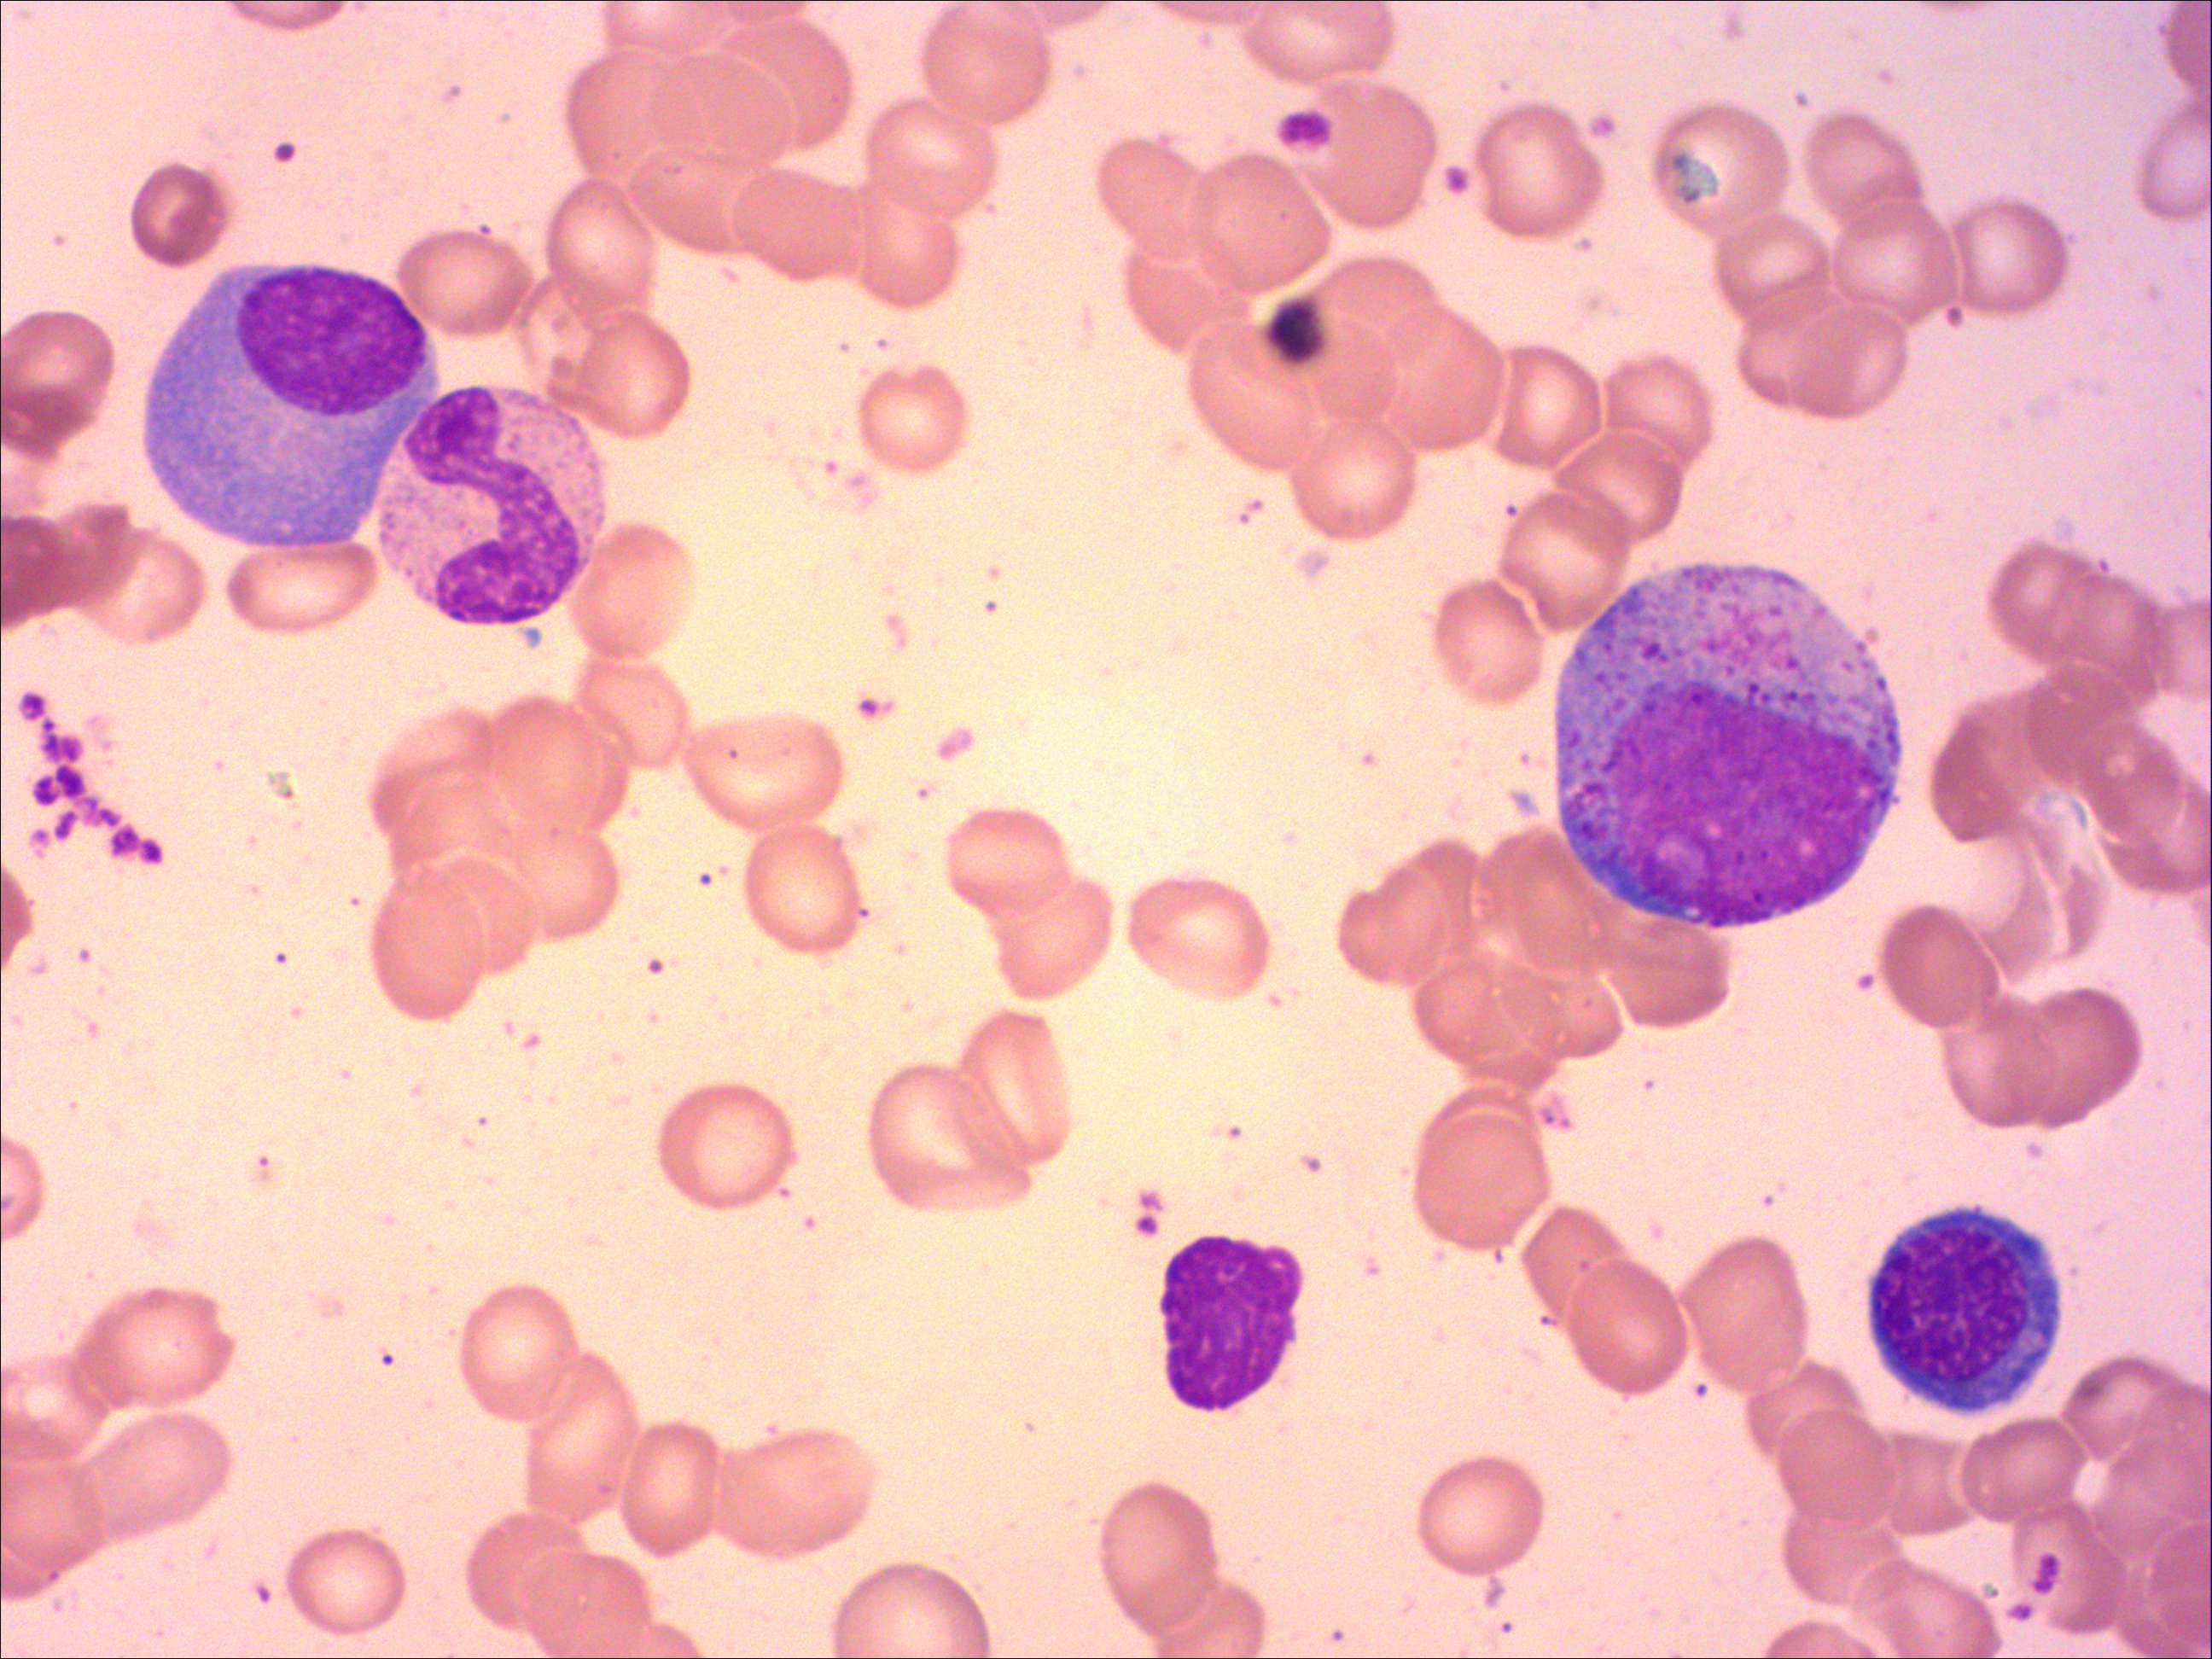2: (1552, 559, 1907, 932)
22: (1864, 1202, 2064, 1422)
5: (374, 380, 611, 636)
51: (138, 260, 444, 554)
x: (1155, 1232, 1308, 1420)
